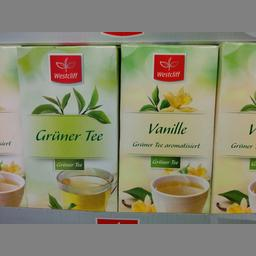tea: (16, 42, 118, 212), (118, 42, 217, 212)
